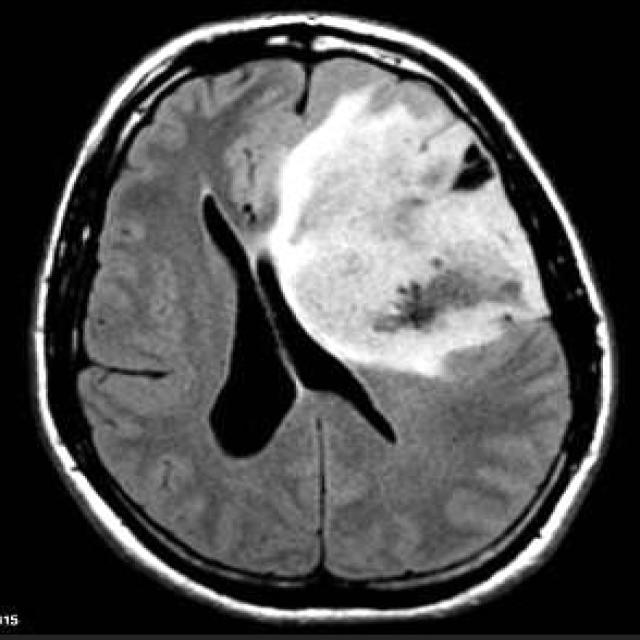Tumor-Cell: (259, 113, 535, 392)
